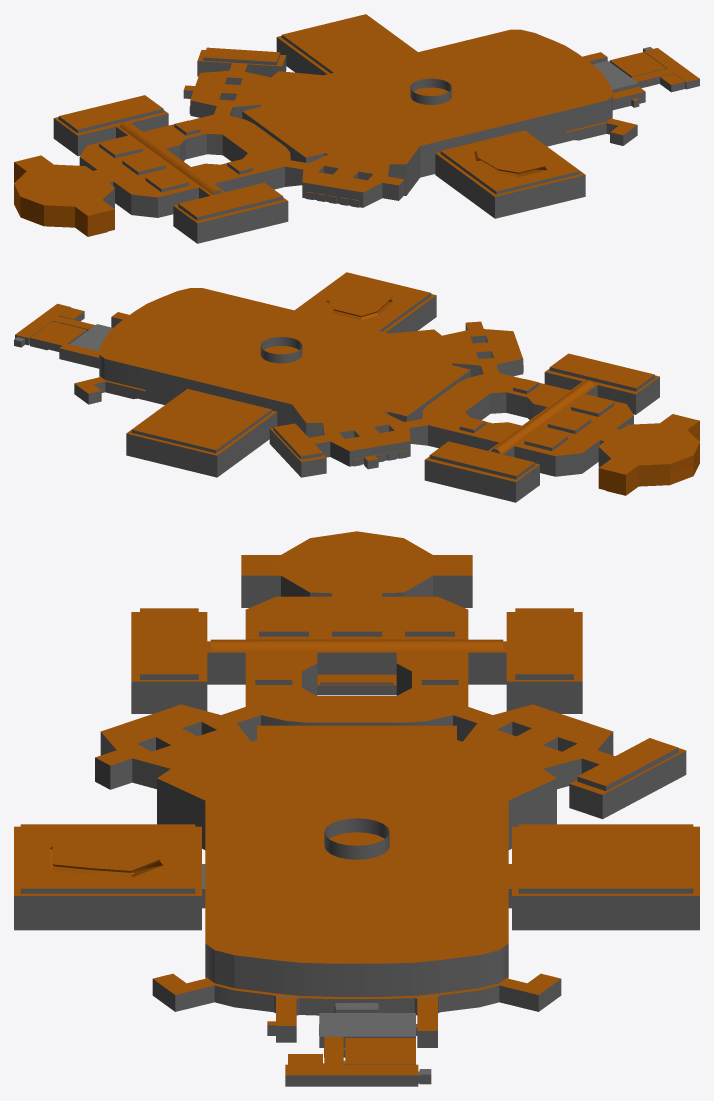
Rendered from WB_nivel1_Bugtants_terreno.fbx.
3 views of the same model, one above another, from view 1: azimuth 30°, elevation 25°; view 2: azimuth 150°, elevation 25°; view 3: azimuth 270°, elevation 25° (orthographic). The views are drawn at different scales.
Visible parts, largest first — view 1: polySurface1504; view 2: polySurface1504; view 3: polySurface1504.
Part boxes in pixels (x1=…): polySurface1504: x1=14, y1=14, x2=699, y2=243; polySurface1504: x1=14, y1=272, x2=699, y2=502; polySurface1504: x1=14, y1=531, x2=699, y2=1086.
Size of the model in its own units: 310 by 19.5 by 179.
